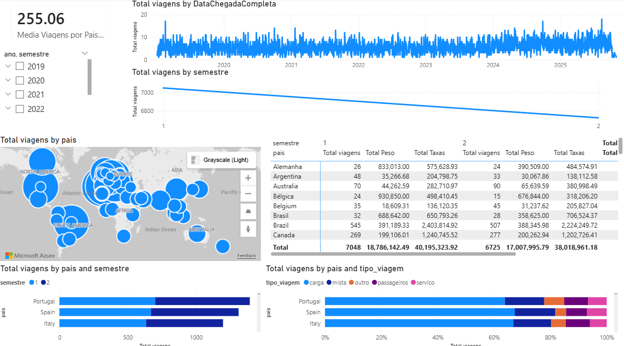

This screenshot's page, from the dashboard's own definition file:
{"tool":"powerbi","page":{"name":"Page 1","canvas":[1280,720],"ordinal":0},"visuals":[{"type":"cardVisual","fields":{"Data":["viagem.Media Viagens por Pais de Origem"]},"box":[9.6,0,236,100.2],"z":0},{"type":"azureMap","fields":{"Category":["origem.pais"],"Size":["viagem.Total viagens"]},"box":[0,278.6,542,262.1],"z":1},{"type":"barChart","fields":{"Series":["data_chegada.semestre"],"Category":["origem.pais"],"Y":["viagem.Total viagens"]},"box":[0,540.7,542,179.8],"z":2},{"type":"lineChart","fields":{"Category":["data_chegada.DataChegadaCompleta"],"Y":["viagem.Total viagens"]},"box":[269,0,1011.3,155.1],"z":3},{"type":"lineChart","fields":{"Category":["data_chegada.semestre"],"Y":["viagem.Total viagens"]},"box":[269,140,971.5,138.6],"z":4},{"type":"slicer","fields":{"Values":["data_chegada.ano","data_chegada.semestre"]},"box":[0,100.2,196.2,150.9],"z":5},{"type":"hundredPercentStackedBarChart","fields":{"Category":["origem.pais"],"Y":["viagem.Total viagens"],"Series":["viagem.tipo_viagem"]},"box":[542,540.7,728.6,179.8],"z":6},{"type":"pivotTable","fields":{"Rows":["origem.pais"],"Columns":["data_chegada.semestre"],"Values":["viagem.Total viagens","viagem.Total Peso","viagem.Total Taxas"]},"box":[551.6,278.6,728.6,252.5],"z":7}]}

Visuals, with their boxes in screenshot pixels (x1, y1, x2, y2), scaled from the page's 1280x720 canvas onto the 624x346 screenshot:
cardVisual - viagem.Media Viagens por Pais de Origem: <region>5, 0, 120, 48</region>
azureMap - origem.pais x viagem.Total viagens: <region>0, 134, 264, 260</region>
barChart - data_chegada.semestre x origem.pais: <region>0, 260, 264, 345</region>
lineChart - data_chegada.DataChegadaCompleta x viagem.Total viagens: <region>131, 0, 623, 75</region>
lineChart - data_chegada.semestre x viagem.Total viagens: <region>131, 67, 605, 134</region>
slicer - data_chegada.ano x data_chegada.semestre: <region>0, 48, 96, 121</region>
hundredPercentStackedBarChart - origem.pais x viagem.Total viagens: <region>264, 260, 619, 345</region>
pivotTable - origem.pais x data_chegada.semestre: <region>269, 134, 623, 255</region>
